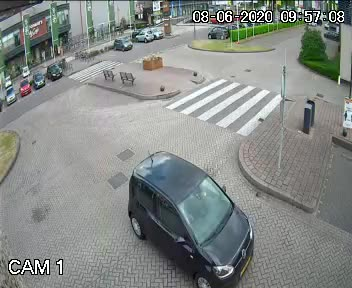car: (101, 141, 280, 288)
